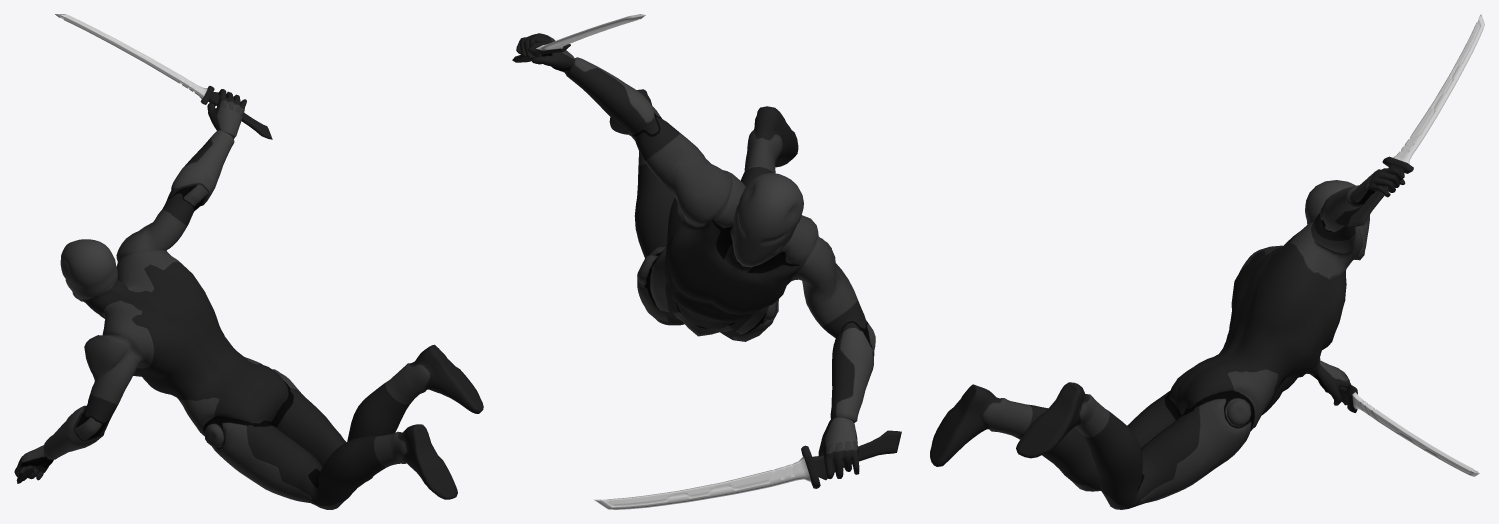
3 renders of one model, left to right at view 1: azimuth 30°, elevation 25°; view 2: azimuth 150°, elevation 25°; view 3: azimuth 270°, elevation 25°, orthographic. The views are drawn at different scales.
Parts seen in each view (by area): view 1: Cyborg_Ninja_Killer, Sword_l001; view 2: Cyborg_Ninja_Killer, Sword_l, Sword_l001; view 3: Cyborg_Ninja_Killer, Sword_l001, Sword_l.
Boxes of the visible parts, box(x1,y1,x2,y2) form: Cyborg_Ninja_Killer: box(14, 89, 483, 509); Sword_l001: box(55, 14, 272, 139); Cyborg_Ninja_Killer: box(516, 33, 875, 478); Sword_l: box(594, 430, 901, 509); Sword_l001: box(512, 14, 645, 62); Cyborg_Ninja_Killer: box(930, 168, 1405, 509); Sword_l001: box(1346, 14, 1484, 227); Sword_l: box(1310, 374, 1479, 476).
Size of the model in its own units: 139 by 157 by 177.
2 materials, 2 textured.
